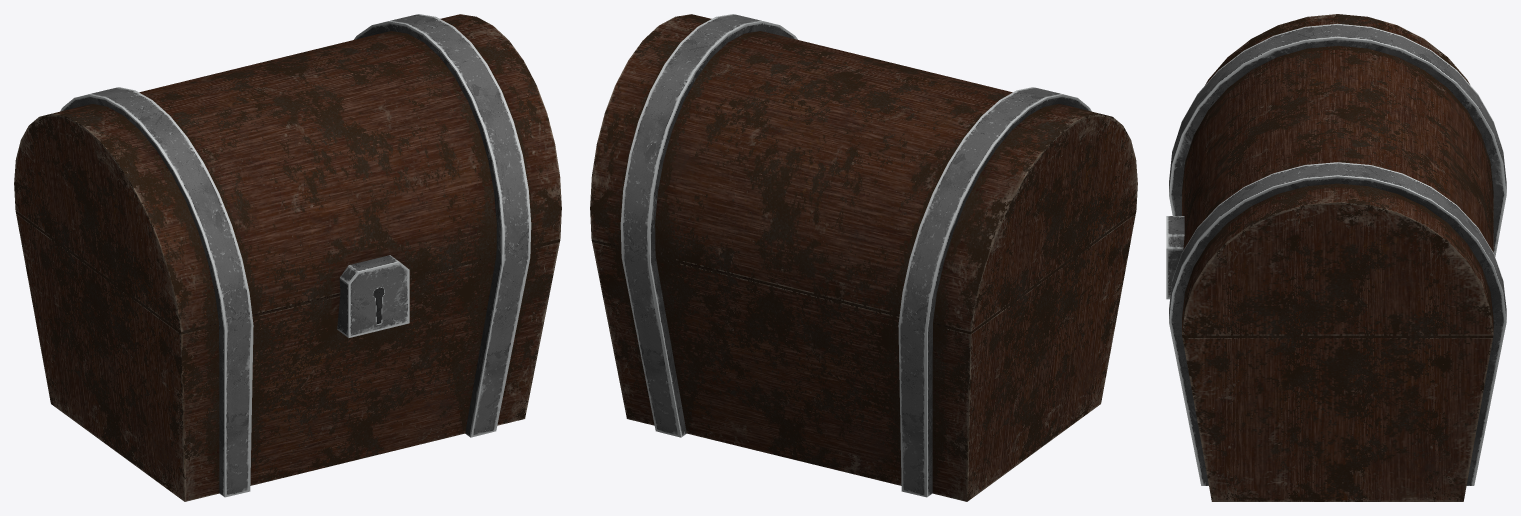
File: free_low_poly_generic_treasure_chest-cd4b2d4f.glb
3 renders of one model, left to right at view 1: azimuth 30°, elevation 25°; view 2: azimuth 150°, elevation 25°; view 3: azimuth 270°, elevation 25°, orthographic. The views are drawn at different scales.
Parts seen in each view (by area): view 1: chest_low, metal_low_right, metal_low._left, lock_low; view 2: chest_low, metal_low_right, metal_low._left; view 3: chest_low, metal_low_right, metal_low._left, lock_low.
Part boxes in pixels (bbox=[...]): chest_low: bbox=[14, 14, 561, 501]; metal_low_right: bbox=[354, 14, 531, 437]; metal_low._left: bbox=[60, 87, 253, 497]; lock_low: bbox=[337, 255, 409, 337]; chest_low: bbox=[590, 14, 1137, 501]; metal_low_right: bbox=[620, 14, 797, 437]; metal_low._left: bbox=[898, 87, 1091, 497]; chest_low: bbox=[1182, 14, 1493, 501]; metal_low_right: bbox=[1169, 162, 1506, 485]; metal_low._left: bbox=[1169, 23, 1506, 256]; lock_low: bbox=[1166, 216, 1184, 299].
Size of the model in its own units: 1.27 by 1.02 by 0.9721.
1 material, 1 textured.
